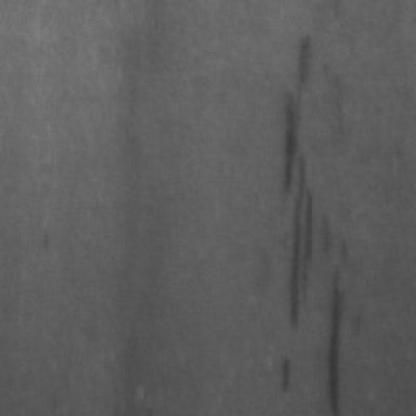inclusion: (268, 27, 335, 389), (306, 258, 352, 414)
